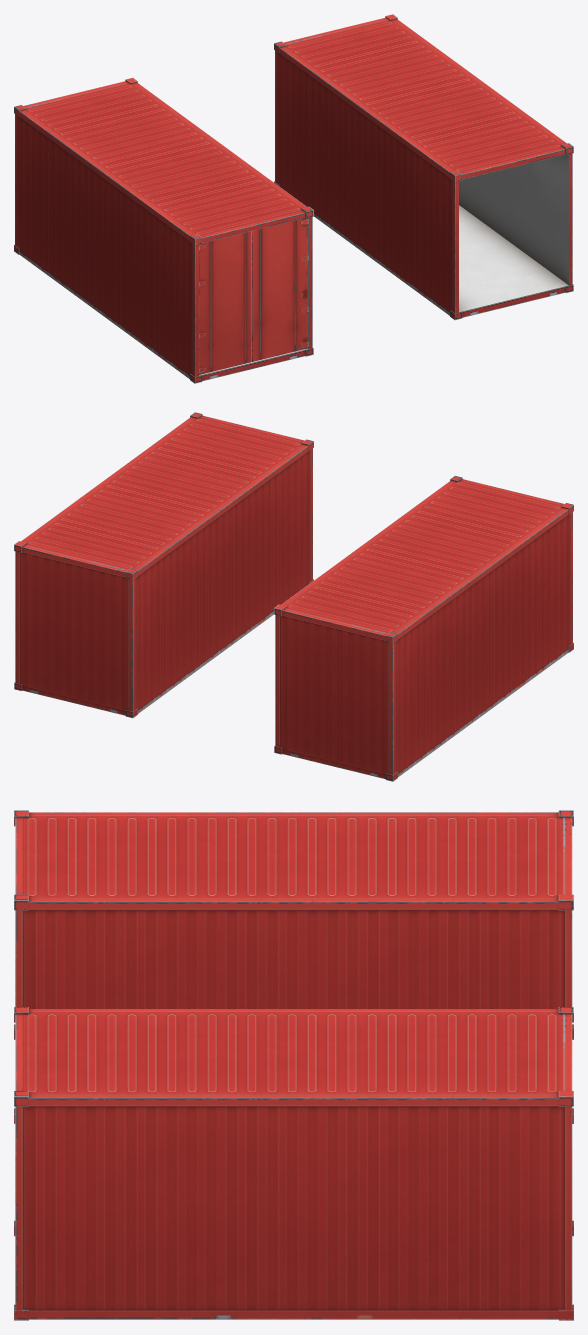
File: containers.fbx
3 views of the same model, one above another, from view 1: azimuth 30°, elevation 25°; view 2: azimuth 150°, elevation 25°; view 3: azimuth 270°, elevation 25° (orthographic). The views are drawn at different scales.
Parts seen in each view (by area): view 1: container, Container open; view 2: container, Container open; view 3: Container open, container.
Boxes of the visible parts, left/top/right/bottom form: container: left=14, top=77, right=313, bottom=383; Container open: left=274, top=14, right=573, bottom=320; container: left=274, top=475, right=573, bottom=781; Container open: left=14, top=412, right=313, bottom=718; Container open: left=14, top=1007, right=573, bottom=1320; container: left=14, top=810, right=573, bottom=1123.
Size of the model in its own units: 757 by 276 by 626.
Materials: 1 (1 with a texture image).
